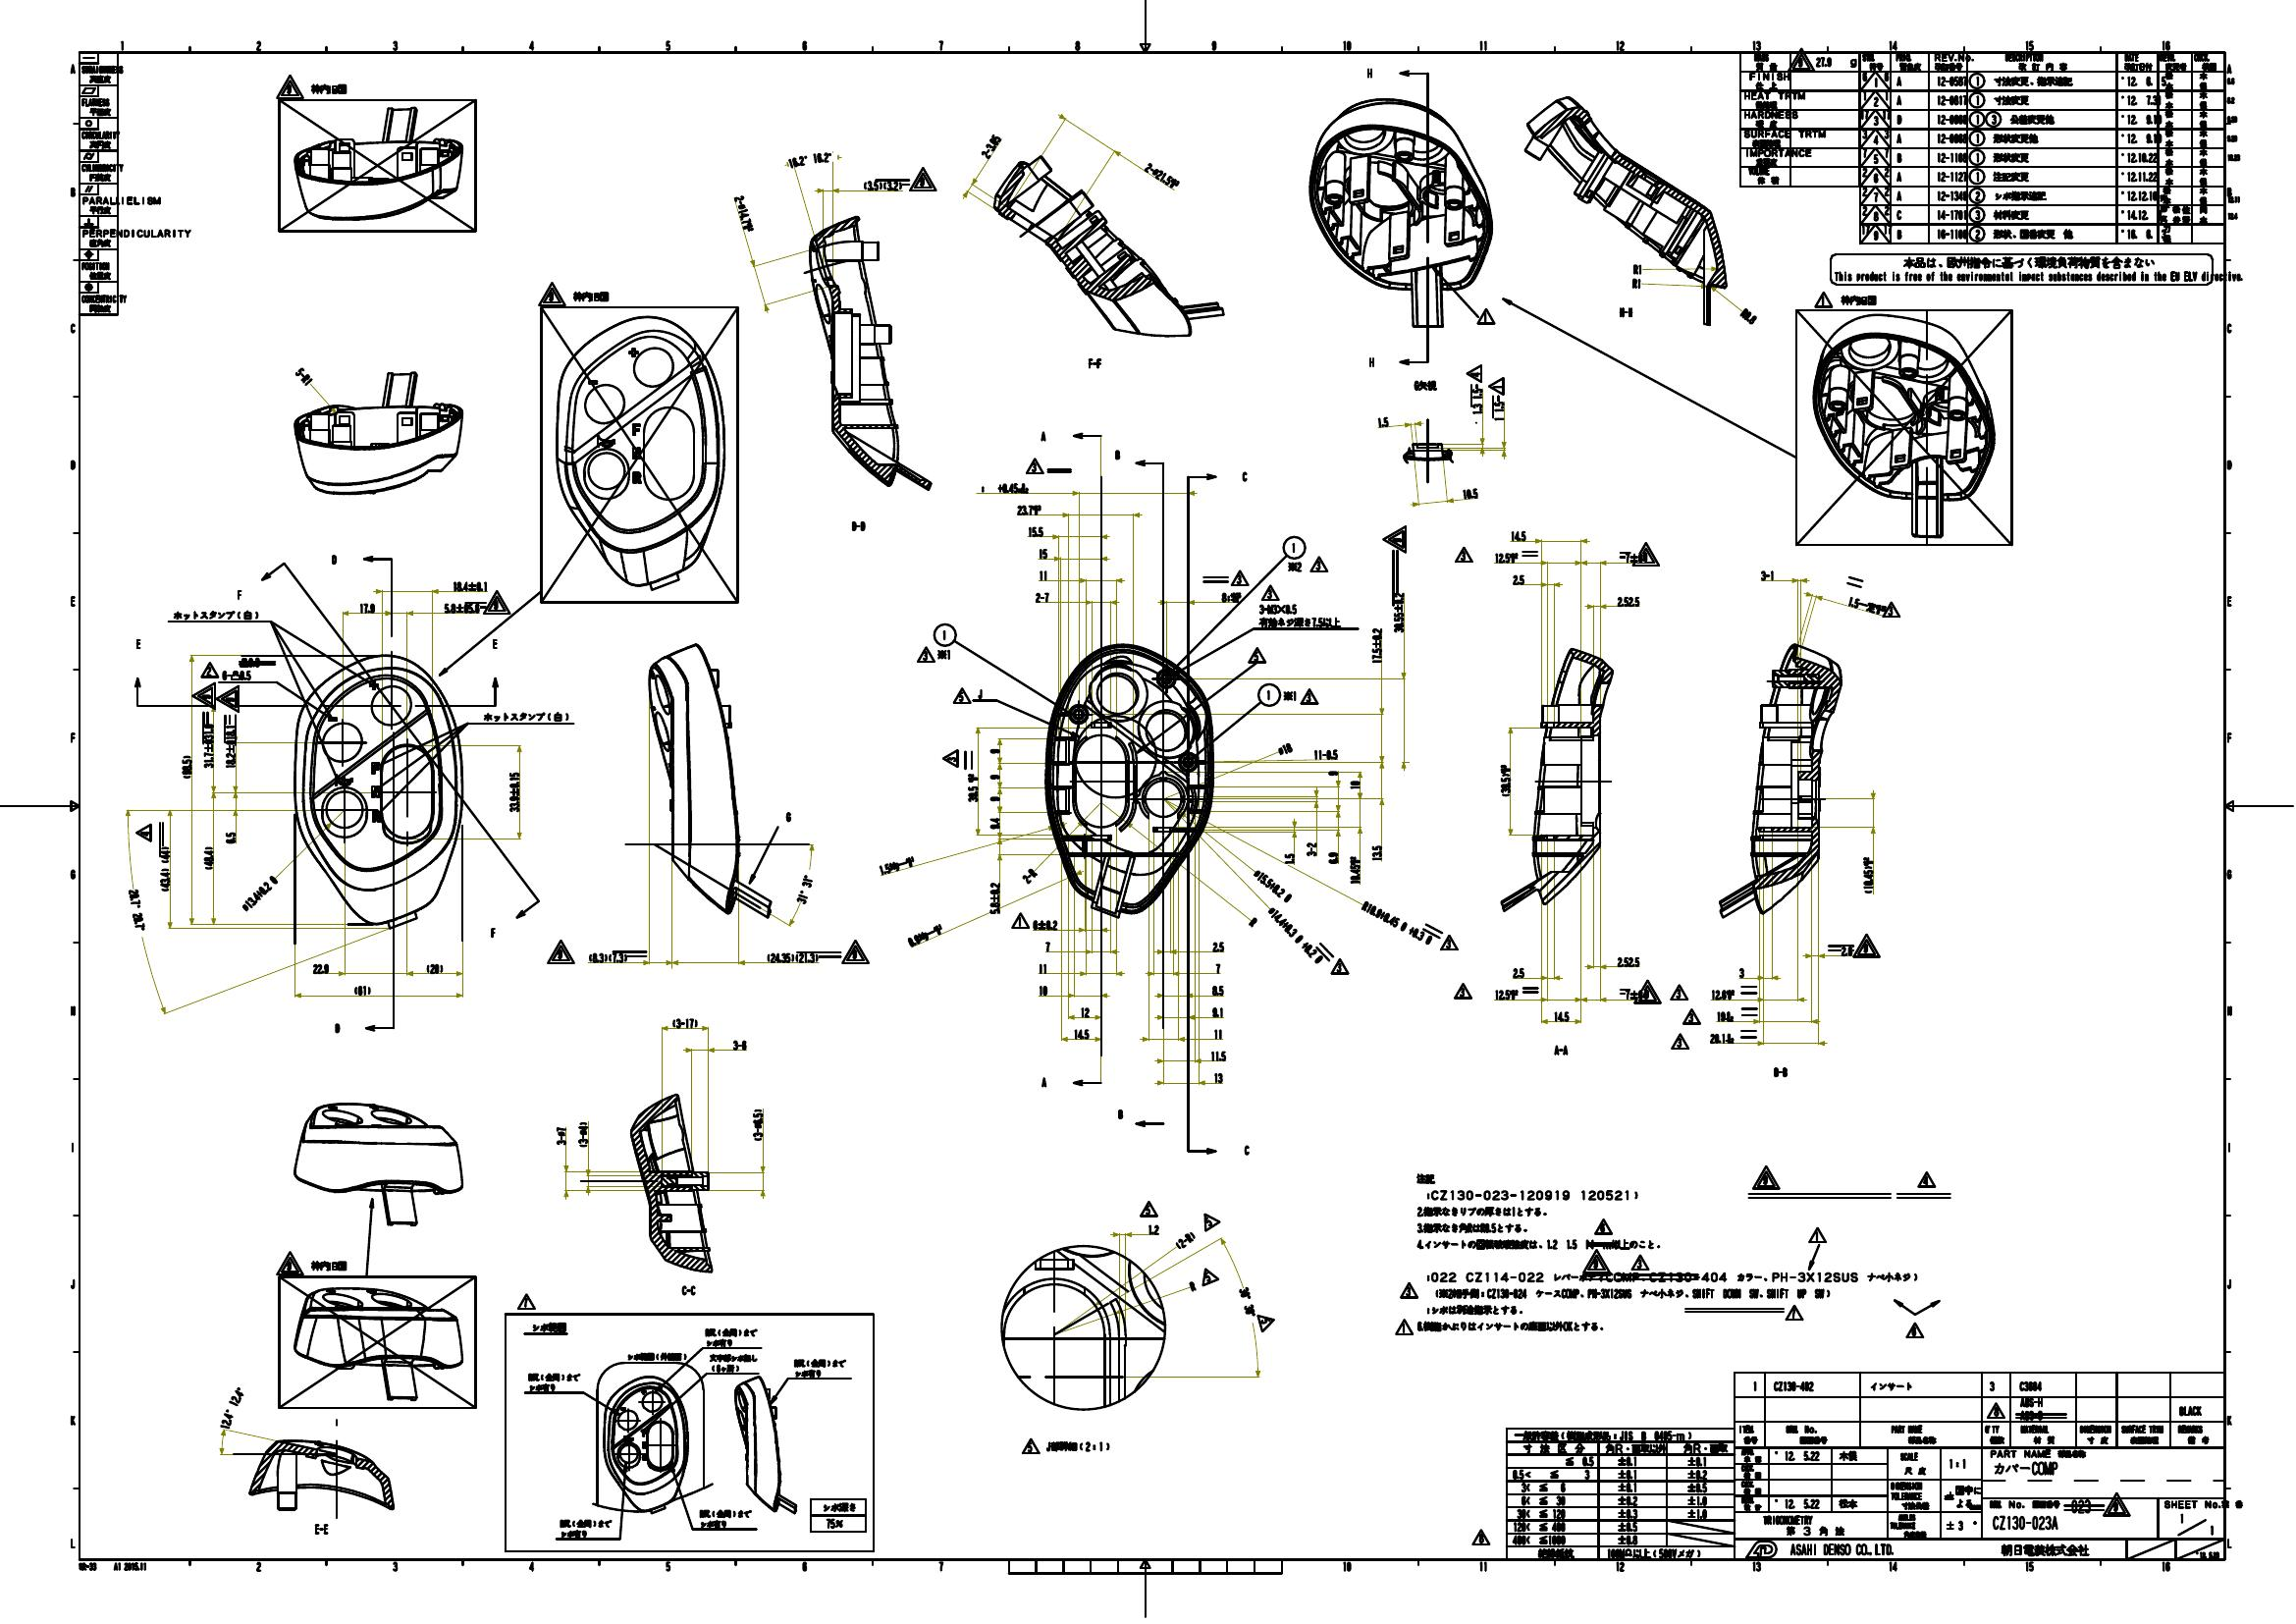anntotation_text: (1414, 1171, 1918, 1334), (1829, 253, 2243, 286), (808, 1497, 868, 1533), (789, 1353, 850, 1380), (696, 1504, 754, 1531), (701, 1323, 761, 1346), (167, 608, 262, 622), (523, 1369, 581, 1392), (481, 710, 571, 724), (555, 1517, 613, 1538), (1045, 1436, 1112, 1454), (706, 1352, 757, 1374), (190, 680, 218, 714), (1379, 524, 1409, 554), (272, 1250, 306, 1276), (625, 1350, 687, 1364), (1852, 932, 1881, 960), (1751, 1164, 1781, 1192), (545, 939, 574, 967), (213, 684, 241, 714), (1578, 1248, 1609, 1274), (840, 939, 871, 965), (272, 72, 304, 98), (536, 279, 567, 306), (1630, 541, 1660, 568), (906, 165, 936, 192), (481, 589, 511, 615), (569, 288, 611, 304), (1256, 682, 1282, 707), (1281, 534, 1307, 559), (529, 1318, 567, 1334), (307, 1258, 348, 1272), (933, 622, 956, 647), (1679, 1005, 1706, 1026), (1839, 292, 1878, 306), (309, 81, 346, 95), (1451, 981, 1474, 1002), (1298, 685, 1321, 707), (199, 659, 221, 680), (1467, 1527, 1491, 1547), (1256, 1311, 1277, 1332), (1806, 1223, 1827, 1244), (1137, 1199, 1159, 1218), (1198, 1209, 1221, 1229), (1019, 1436, 1042, 1455), (1667, 1030, 1690, 1049), (1592, 1216, 1614, 1236), (1391, 1318, 1414, 1338), (913, 645, 936, 664), (1476, 308, 1498, 327), (132, 823, 155, 842), (1915, 1171, 1939, 1188), (515, 1292, 536, 1311), (1328, 956, 1349, 975), (1667, 982, 1688, 1002), (1783, 1302, 1804, 1322), (1630, 1251, 1651, 1271), (1398, 1280, 1418, 1301), (940, 749, 959, 770), (952, 685, 973, 705), (1453, 545, 1474, 564), (1813, 290, 1834, 309), (1486, 376, 1505, 397), (1022, 457, 1045, 475), (1008, 910, 1031, 928), (1411, 378, 1439, 392), (1230, 568, 1249, 587), (1437, 933, 1458, 951), (1258, 584, 1279, 601), (1465, 362, 1483, 383), (1198, 1267, 1217, 1285), (1247, 647, 1267, 664), (1309, 555, 1328, 573), (1881, 599, 1901, 617), (1084, 355, 1105, 371), (680, 1281, 697, 1297), (311, 1522, 330, 1536), (1549, 1042, 1569, 1056), (1906, 1323, 1924, 1338), (1284, 561, 1303, 573), (1771, 1065, 1788, 1077), (848, 520, 866, 533), (1618, 306, 1632, 320), (935, 649, 950, 661), (1282, 689, 1298, 701), (1365, 353, 1375, 371), (327, 552, 339, 566), (132, 638, 144, 650), (1240, 1142, 1251, 1156), (1238, 469, 1249, 483), (332, 1021, 343, 1035), (487, 924, 497, 939), (1116, 1104, 1124, 1120), (1114, 448, 1123, 464), (1038, 1076, 1047, 1090), (1365, 65, 1374, 79), (1038, 429, 1047, 441), (975, 687, 984, 700), (235, 587, 244, 599), (490, 636, 497, 650)
dimension_text: (1258, 603, 1340, 629), (1354, 914, 1440, 932), (1254, 924, 1337, 942), (504, 768, 522, 814), (156, 844, 172, 893), (1249, 877, 1298, 893), (200, 722, 216, 770), (764, 951, 817, 965), (221, 724, 237, 770), (1367, 624, 1384, 664), (1390, 592, 1405, 634), (905, 926, 945, 942), (232, 888, 283, 900), (128, 888, 142, 932), (861, 178, 905, 192), (587, 951, 631, 965), (1846, 598, 1885, 613), (1860, 852, 1874, 895), (785, 153, 833, 165), (1142, 169, 1182, 183), (441, 599, 480, 613), (878, 858, 917, 872), (720, 207, 764, 220), (787, 881, 824, 895), (1469, 387, 1484, 418), (1346, 854, 1361, 886), (220, 668, 255, 682), (1230, 1294, 1265, 1308), (750, 1107, 764, 1142), (574, 1120, 590, 1149), (669, 1014, 699, 1030), (966, 772, 980, 803), (1312, 747, 1340, 763), (1491, 986, 1520, 1002), (987, 881, 1000, 916), (1498, 763, 1511, 798), (994, 483, 1035, 494), (975, 139, 1005, 153), (450, 580, 488, 591), (179, 752, 193, 780), (200, 844, 214, 872), (1015, 501, 1042, 515), (1216, 591, 1242, 605), (1614, 592, 1641, 606), (1713, 1009, 1739, 1023), (1709, 986, 1736, 1000), (1029, 917, 1058, 930), (1708, 1032, 1736, 1044), (1493, 550, 1520, 562), (1490, 399, 1504, 422), (553, 1125, 567, 1148), (1173, 1234, 1198, 1246), (423, 961, 444, 975), (1072, 1025, 1089, 1040), (1274, 742, 1293, 756), (1368, 842, 1383, 861), (1303, 838, 1318, 858), (1757, 568, 1776, 582), (1031, 591, 1052, 603), (731, 1037, 748, 1051), (1509, 571, 1527, 585), (1613, 956, 1641, 965), (1024, 524, 1047, 534), (293, 371, 313, 383), (358, 601, 374, 615), (1035, 566, 1049, 582), (1511, 965, 1525, 981), (1739, 311, 1760, 322), (351, 984, 371, 995), (311, 963, 330, 974), (1507, 529, 1527, 540), (1462, 489, 1481, 499), (1375, 415, 1390, 429), (223, 830, 237, 844), (1210, 1004, 1224, 1018), (1326, 851, 1340, 865), (1212, 1069, 1224, 1084), (1209, 939, 1224, 951), (1021, 870, 1036, 882), (1209, 1049, 1226, 1060), (1551, 1009, 1569, 1019), (782, 808, 794, 823), (1145, 1223, 1159, 1236), (1210, 982, 1224, 995), (1282, 851, 1295, 865), (1630, 262, 1643, 276), (1036, 961, 1049, 974), (1036, 547, 1049, 559), (1734, 967, 1746, 979), (1212, 1026, 1223, 1040), (989, 816, 1000, 830), (1630, 276, 1641, 290), (1079, 1005, 1089, 1018), (1188, 1281, 1196, 1295), (987, 747, 1001, 756), (1212, 961, 1221, 974), (1038, 984, 1047, 997), (1042, 940, 1051, 953), (987, 772, 998, 780), (989, 794, 998, 803)
object: (553, 315, 727, 592), (292, 652, 464, 930), (1043, 642, 1214, 919), (1523, 95, 1727, 325), (1307, 97, 1493, 329), (991, 155, 1224, 339), (1811, 313, 1996, 538), (1716, 642, 1843, 919), (646, 642, 773, 919), (808, 214, 933, 492), (1498, 647, 1614, 914), (998, 1244, 1166, 1410), (292, 371, 464, 497), (293, 1102, 464, 1227), (293, 1285, 466, 1403), (292, 105, 464, 221), (594, 1360, 706, 1515), (629, 1091, 713, 1274), (246, 1438, 395, 1515), (731, 1374, 798, 1517), (1402, 441, 1453, 464)
title_block: (1732, 1369, 2227, 1562), (1737, 49, 2227, 244), (1504, 1425, 1736, 1562), (76, 49, 119, 316)
